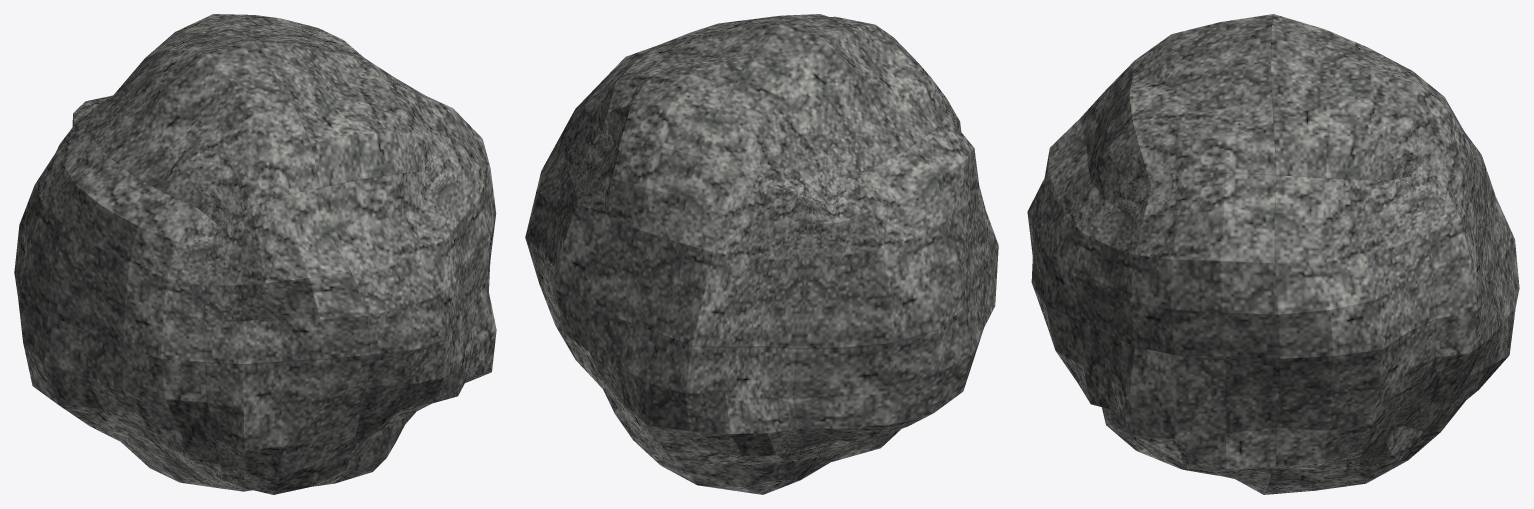
The model's file is SM_EC_Rock_01.fbx.
The picture shows the model from 3 angles, left to right: view 1: azimuth 30°, elevation 25°; view 2: azimuth 150°, elevation 25°; view 3: azimuth 270°, elevation 25°; orthographic projection.
Visible parts, largest first — view 1: SM_EC_Rock_01; view 2: SM_EC_Rock_01; view 3: SM_EC_Rock_01.
Part boxes in pixels (x1,y1,x2,y2): SM_EC_Rock_01: (14, 14, 496, 494); SM_EC_Rock_01: (525, 14, 998, 494); SM_EC_Rock_01: (1027, 14, 1519, 494).
Bounding box in the file's own units: 2.05 × 2.09 × 2.07.
